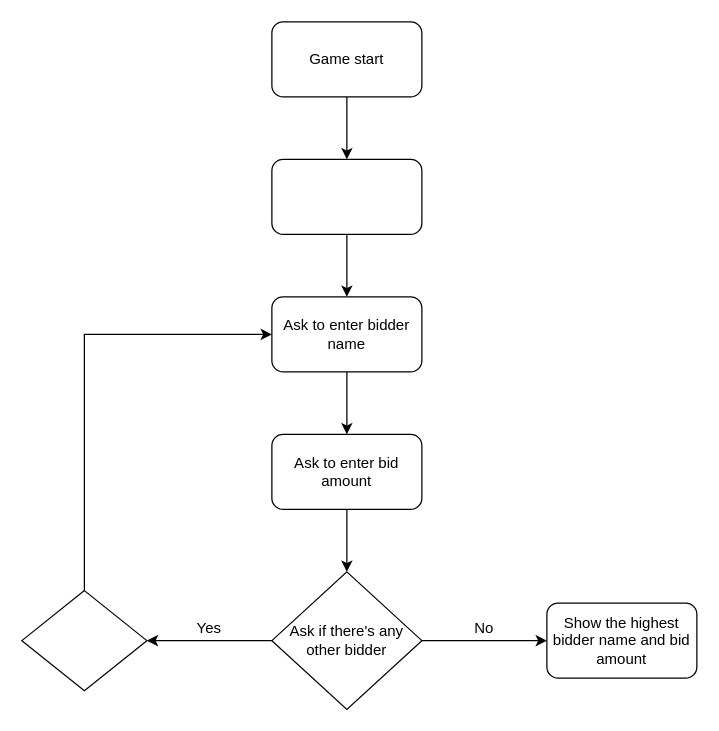
Some shapes in this 719 by 731 pixel diagram are drawn without their labels. The centre of each missing label's shape, as x and y in pixels:
"Clear screen" belongs at point 84,640.
"Display logo" belongs at point 346,196.
